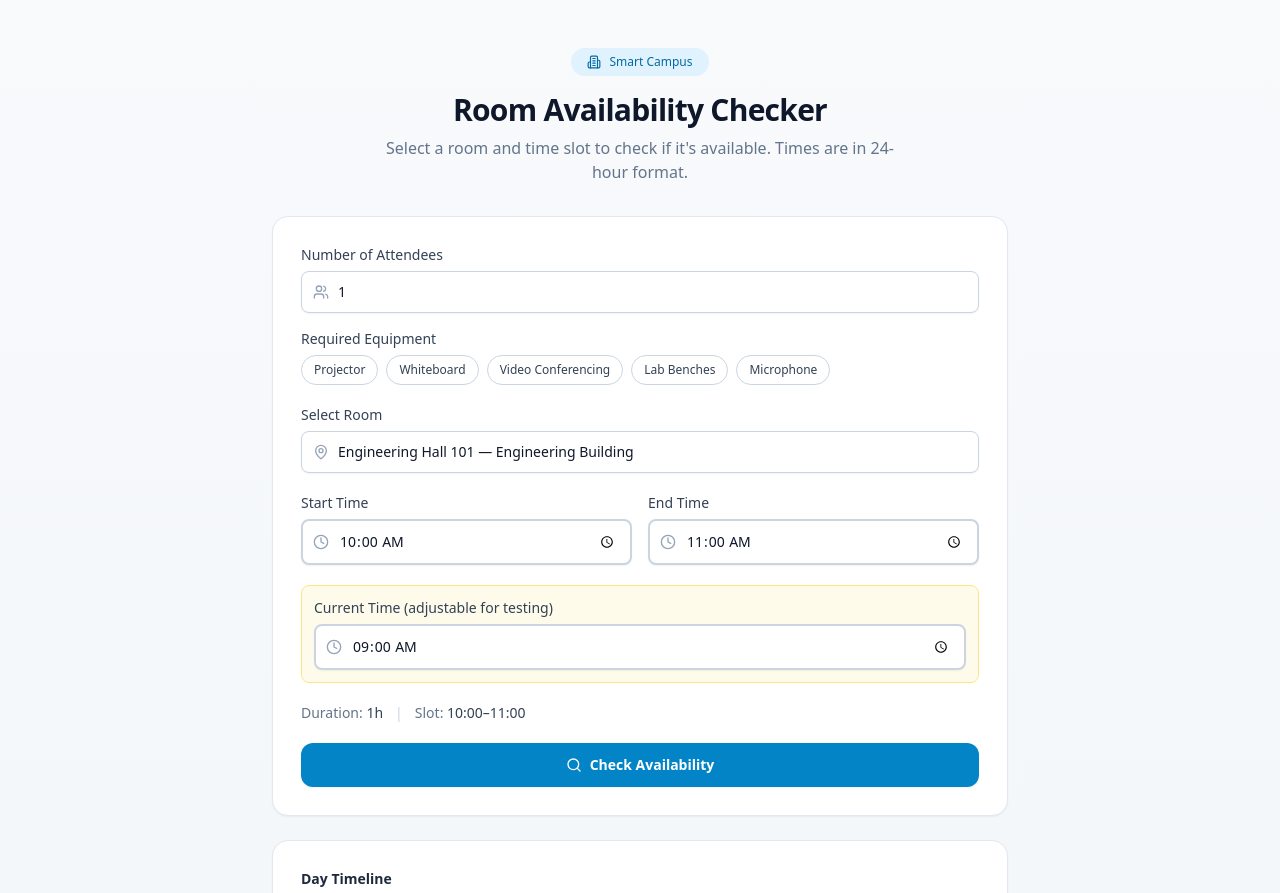
room switching › clears the result when the attendee filter changes
Click the button "Check Availability".
click(640, 765)  # box [301,743,979,787]
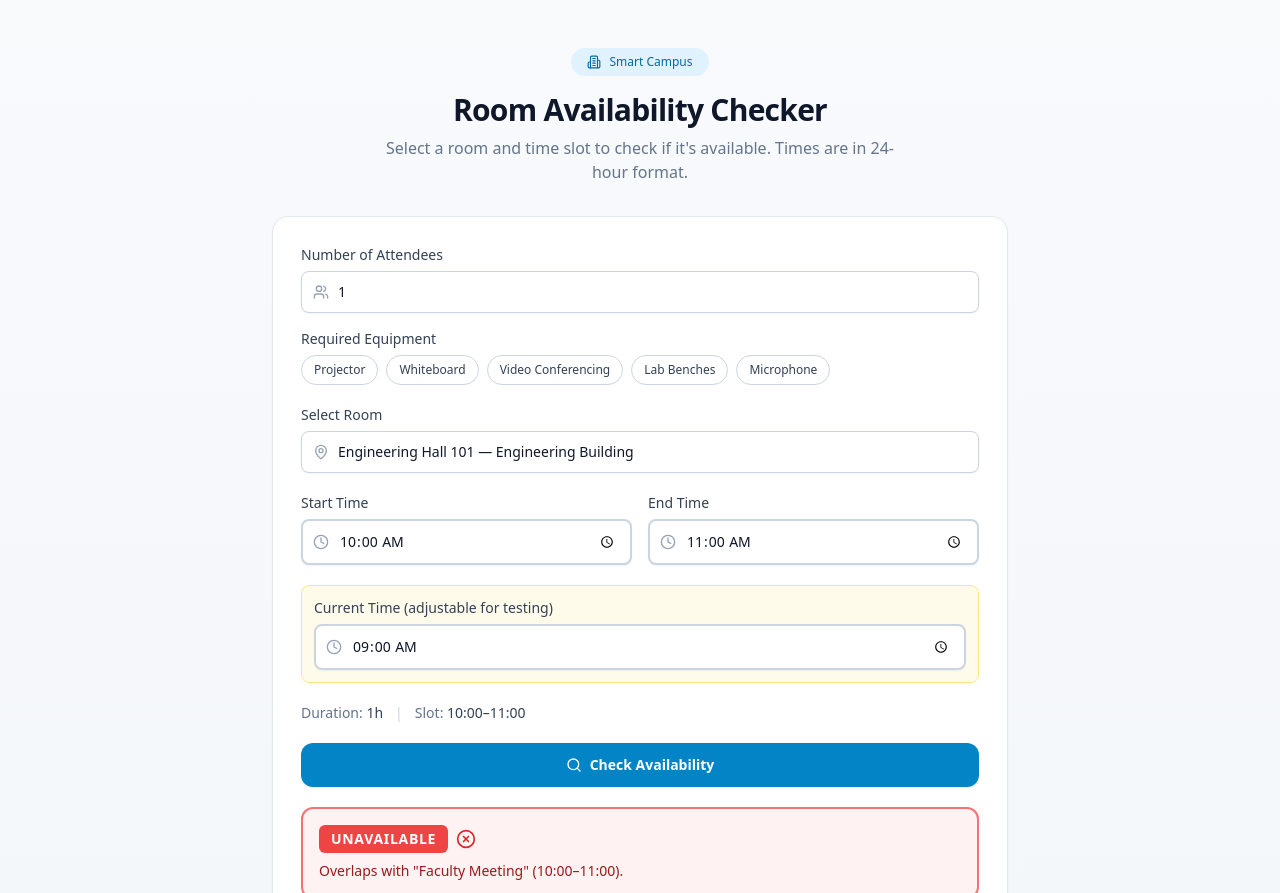
Expected: the text "Unavailable" is shown, [319,825,448,853]
Replace the text in the number field labelled "Number of Attendees" with "2" at (640,292), box [301,271,979,313]
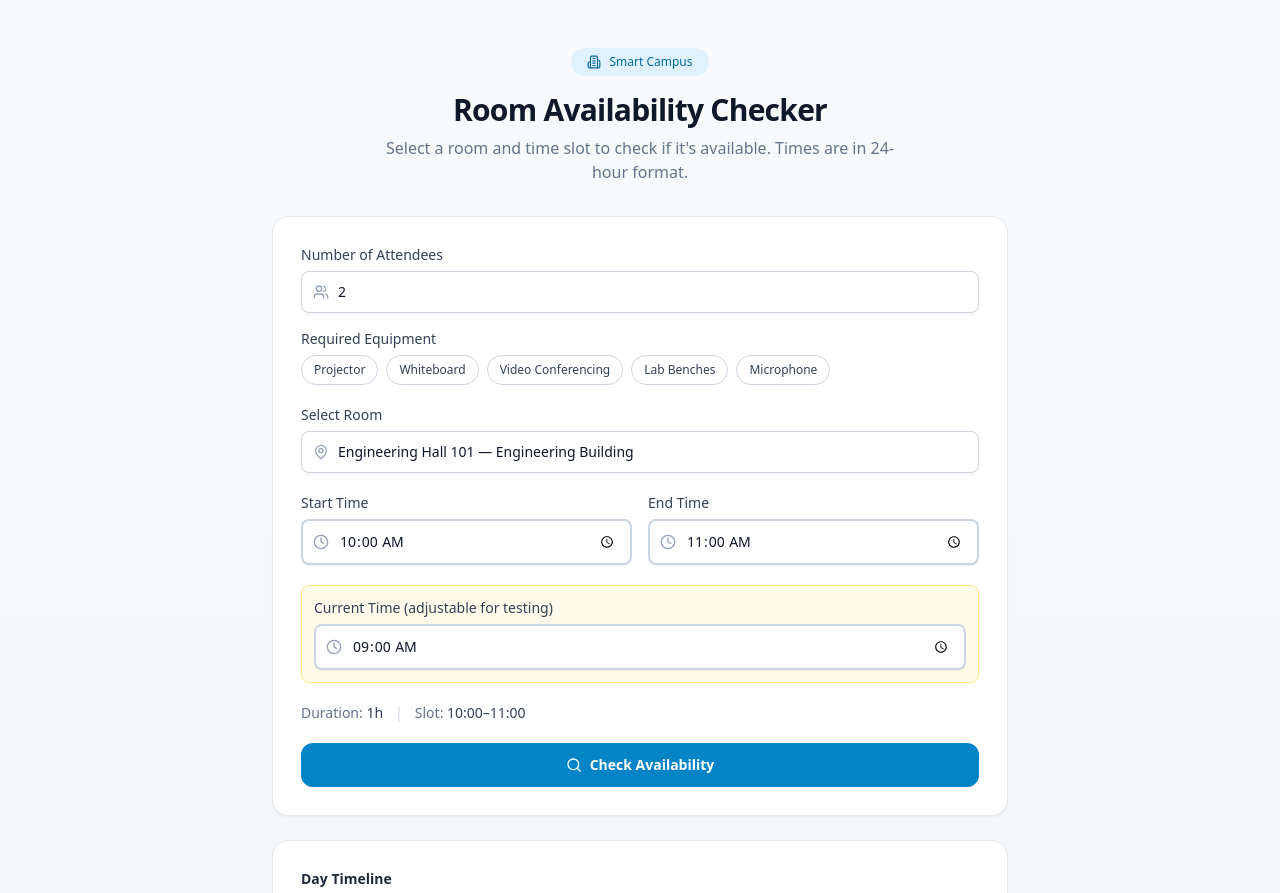
Expected: the text "Unavailable" is gone
